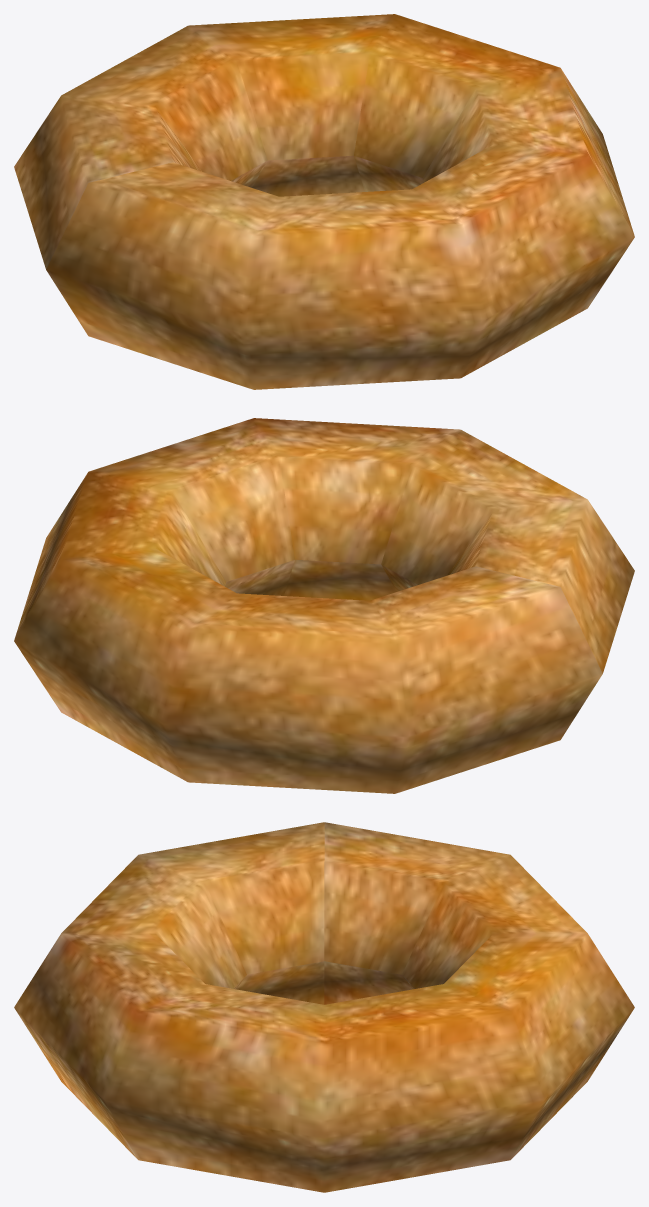
The model's file is Donuts.glb.
3 renders of one model, top to bottom at view 1: azimuth 30°, elevation 25°; view 2: azimuth 150°, elevation 25°; view 3: azimuth 270°, elevation 25°, orthographic. The views are drawn at different scales.
Parts seen in each view (by area): view 1: Donuts; view 2: Donuts; view 3: Donuts.
Boxes of the visible parts, box(x1,y1,x2,y2) form: Donuts: box(14, 14, 634, 389); Donuts: box(14, 418, 634, 793); Donuts: box(14, 822, 634, 1192).
Bounding box in the file's own units: 0.1882 × 0.0495 × 0.1882.
1 material, 1 textured.
